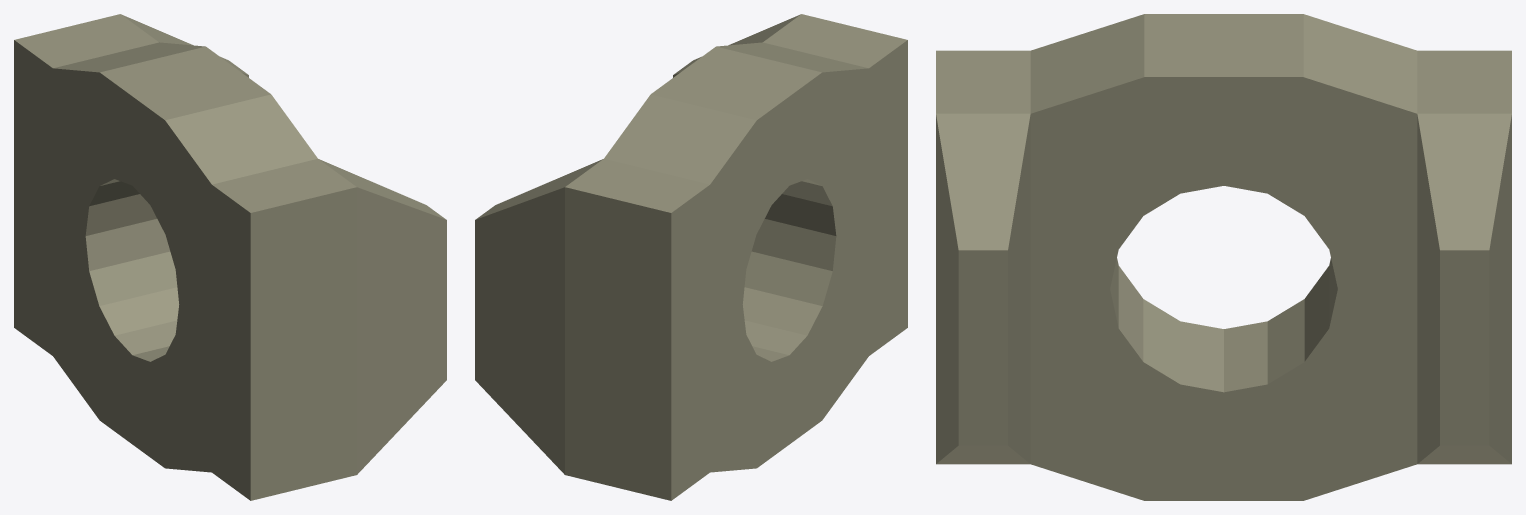
The model's file is Block_1.fbx.
The picture shows the model from 3 angles, left to right: view 1: azimuth 30°, elevation 25°; view 2: azimuth 150°, elevation 25°; view 3: azimuth 270°, elevation 25°; orthographic projection. The views are drawn at different scales.
Parts seen in each view (by area): view 1: Block; view 2: Block; view 3: Block.
Part boxes in pixels (x1,y1,x2,y2): Block: (14, 14, 446, 500); Block: (475, 14, 907, 500); Block: (936, 14, 1511, 500).
Size of the model in its own units: 2.68 by 4.34 by 5.35.
